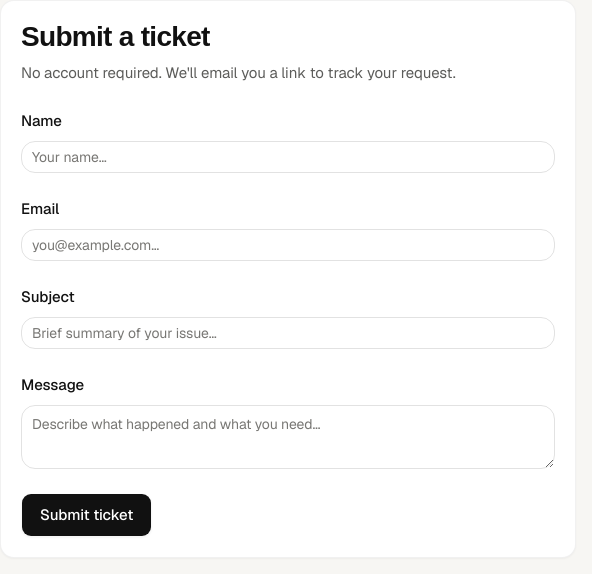
Test: submits ticket successfully
This screenshot has width=592, height=574.
Type "Alex" into the field labelled "Name". click: (288, 157)
box: [21,141,555,173]
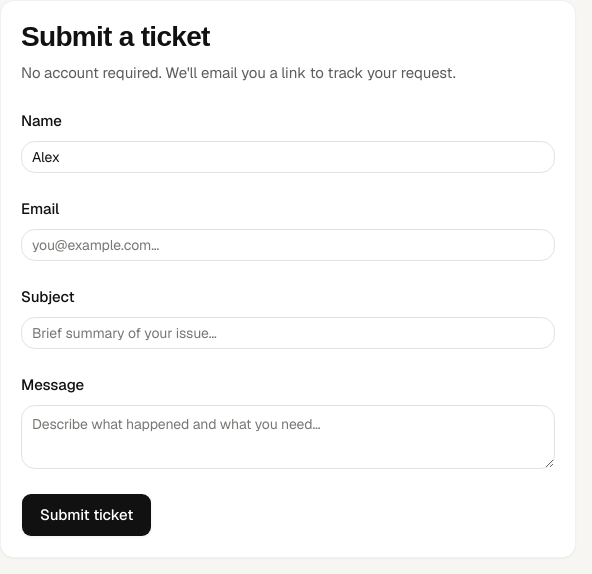
Type "alex@example.com" into the field labelled "Email". click: (288, 245)
box: [21,229,555,261]
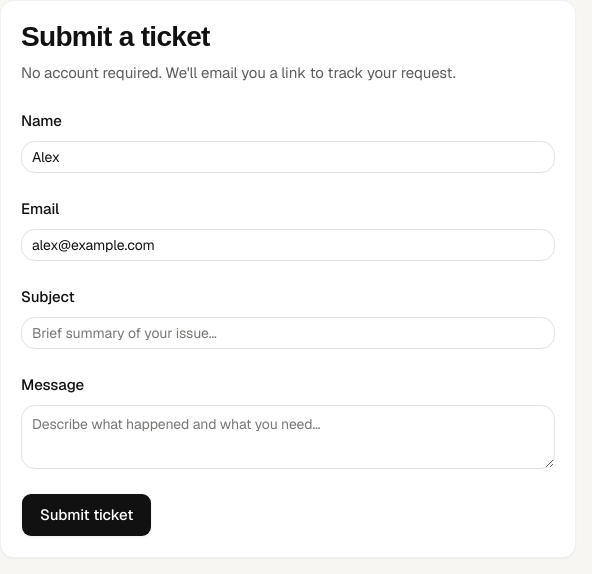
Type "Broken checkout" into the field labelled "Subject". click: (288, 333)
box: [21,317,555,349]
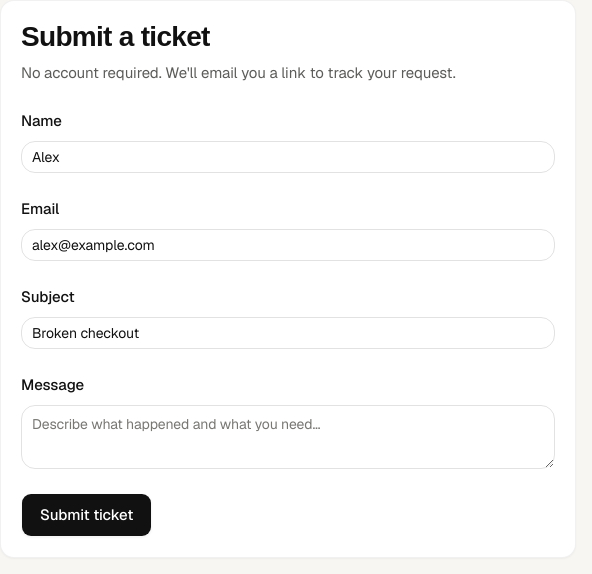
Type "Payment fails on submit." into the text box labelled "Message". click: (288, 437)
box: [21,405,555,469]
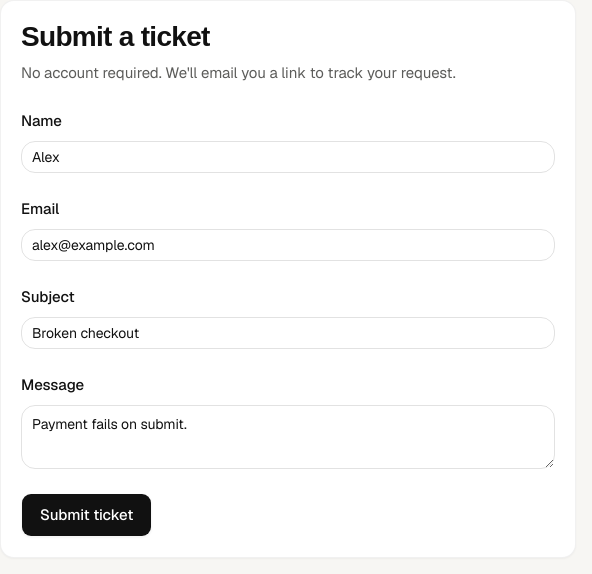
Click the button "Submit ticket". click: click(87, 515)
box: [21,493,152,537]
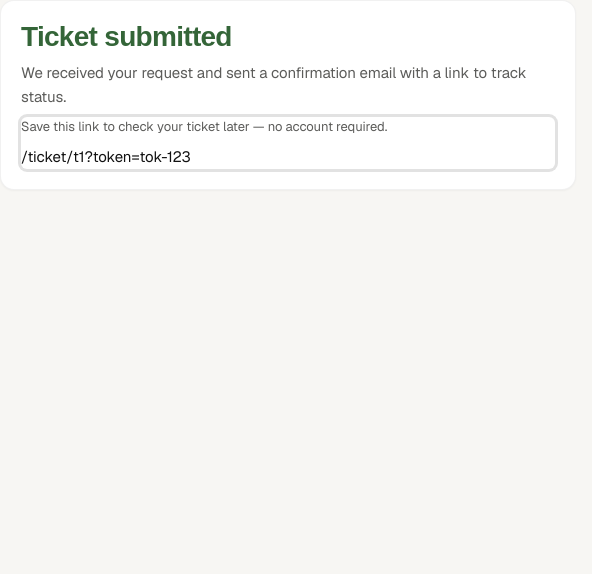
Now the heading "Ticket submitted" is shown, box [21,21,232,52]
